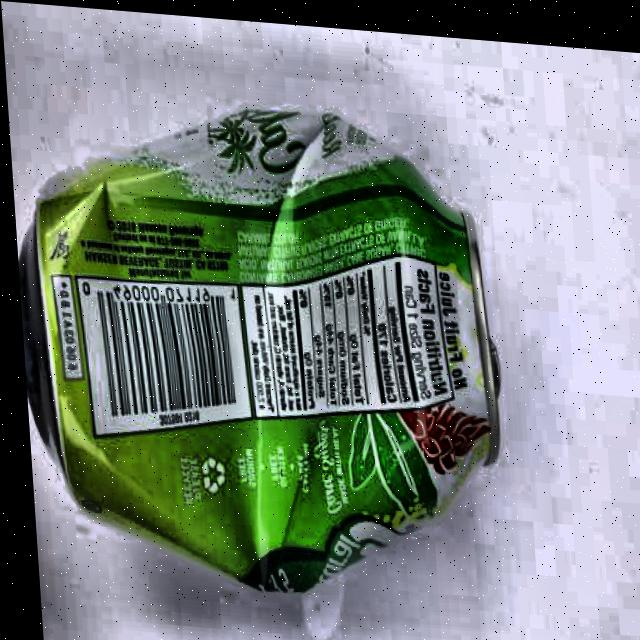metal: (5, 80, 523, 619)
